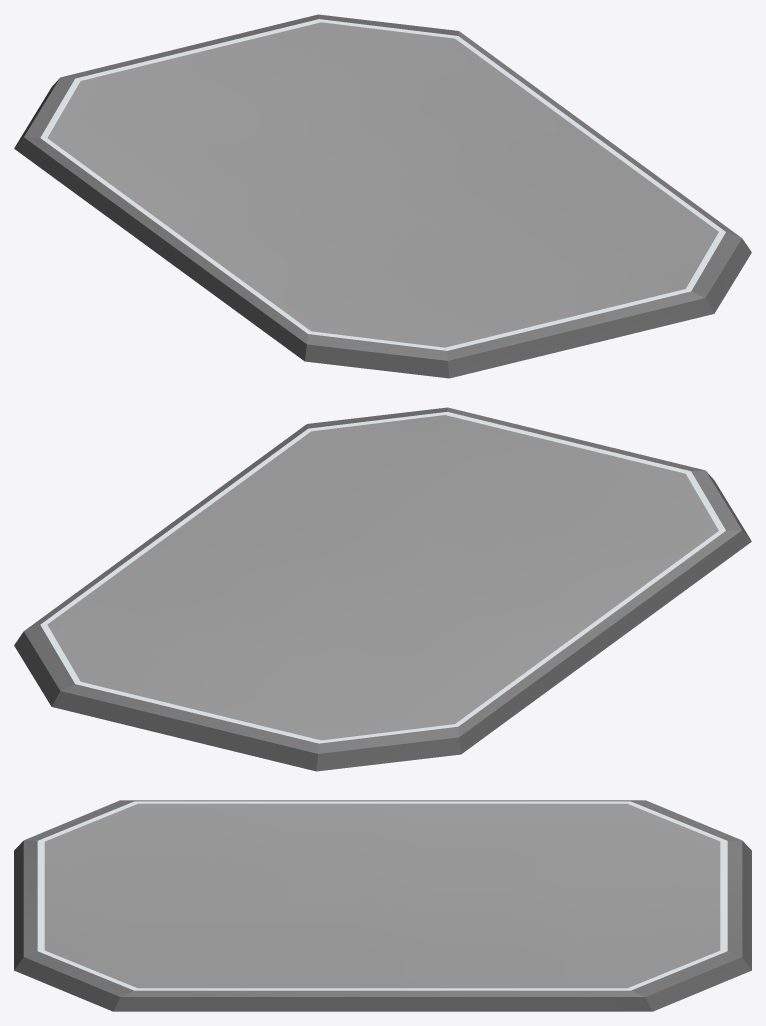
Rendered from CarPlatform.fbx.
3 renders of one model, top to bottom at view 1: azimuth 30°, elevation 25°; view 2: azimuth 150°, elevation 25°; view 3: azimuth 270°, elevation 25°, orthographic. The views are drawn at different scales.
Parts seen in each view (by area): view 1: CarPlatform; view 2: CarPlatform; view 3: CarPlatform.
Boxes of the visible parts, x1,y1,x2,y2 form: CarPlatform: (14,14,751,378); CarPlatform: (14,407,751,771); CarPlatform: (14,800,751,1011).
Size of the model in its own units: 3518 by 118 by 5422.
